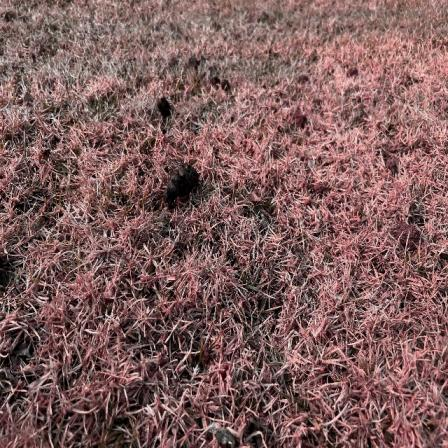dog-poop: (155, 159, 214, 207)
